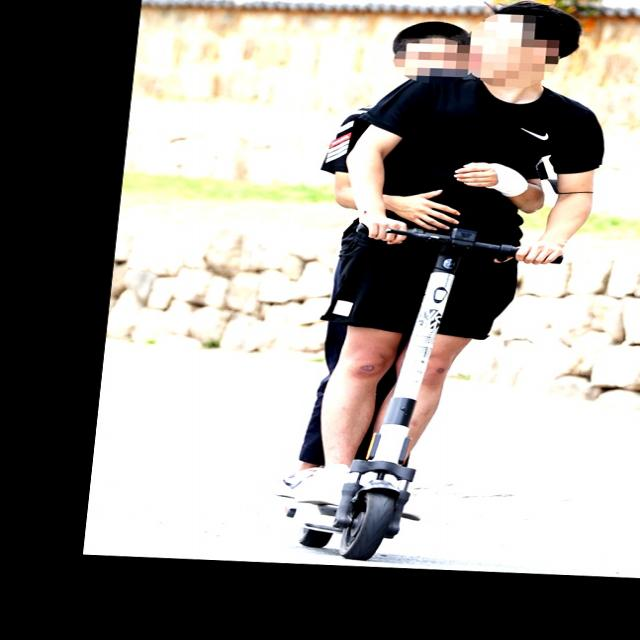bare_head: (470, 5, 588, 91), (384, 13, 477, 81)
human: (303, 0, 610, 505), (273, 1, 486, 507)
kickboard: (267, 445, 430, 564)
